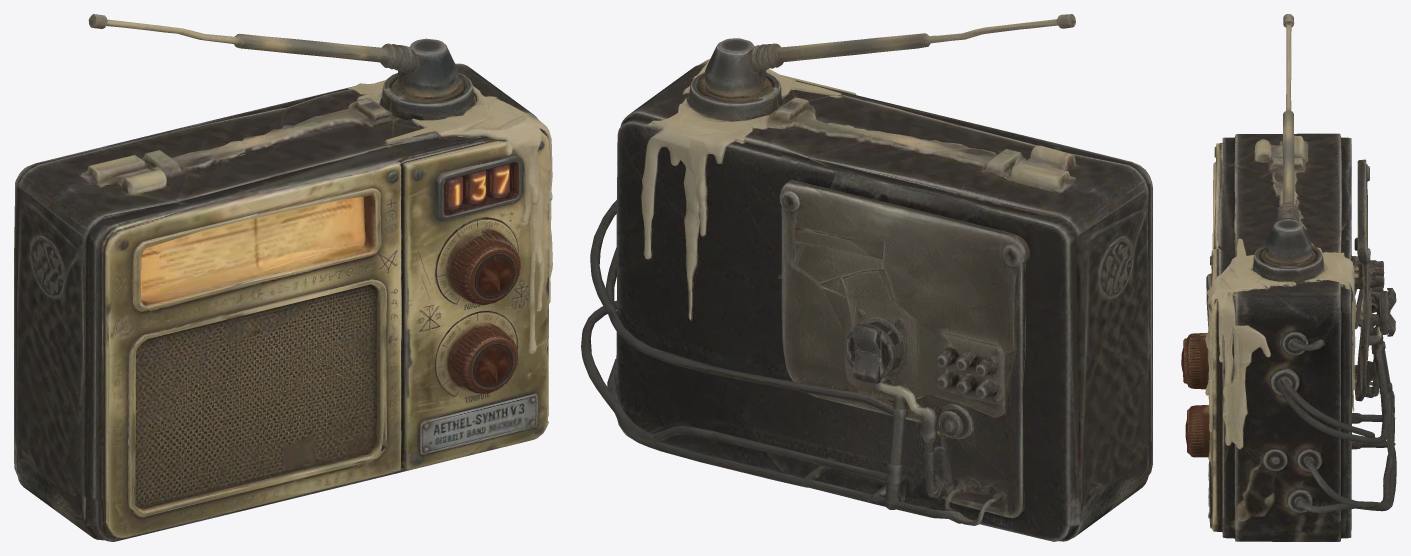
The model's file is radio.glb.
The picture shows the model from 3 angles, left to right: view 1: azimuth 30°, elevation 25°; view 2: azimuth 150°, elevation 25°; view 3: azimuth 270°, elevation 25°; orthographic projection. The views are drawn at different scales.
Visible parts, largest first — view 1: Mesh_0; view 2: Mesh_0; view 3: Mesh_0.
Part boxes in pixels (box(x1,y1,x2,y2)): Mesh_0: box(14, 14, 552, 541); Mesh_0: box(581, 14, 1152, 541); Mesh_0: box(1181, 14, 1396, 541).
Size of the model in its own units: 1.9 by 1.81 by 0.9163.
Materials: 1 (1 with a texture image).
